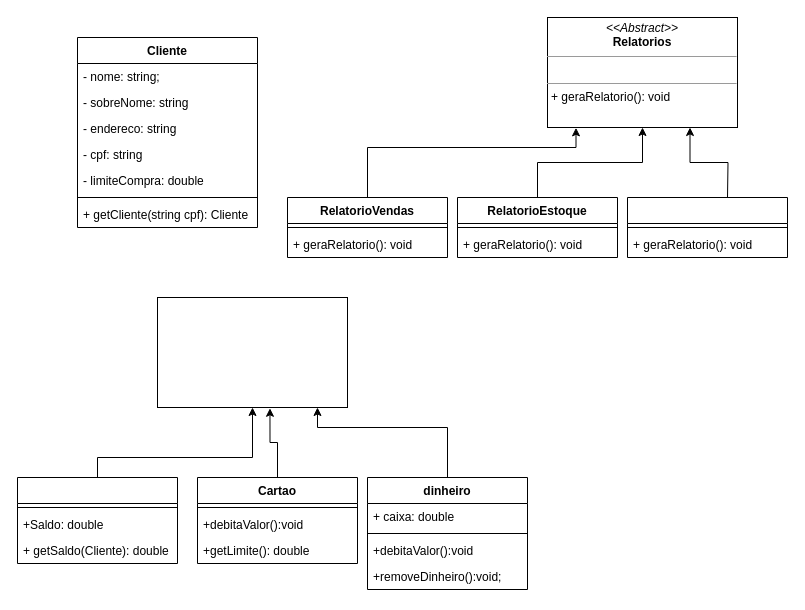
Image size: 805x610. Some labels were removed from this diagram. The shapes that lost their labels are listed below. From the top down, each one's box as (x1, y1, x2, y2) in pixels, then its label:
(626, 196, 788, 258): RelatorioDevedores
(156, 296, 348, 408): <<Abstract>> Pagamento + geraRelatorio(): void
(16, 476, 178, 564): Fiado
